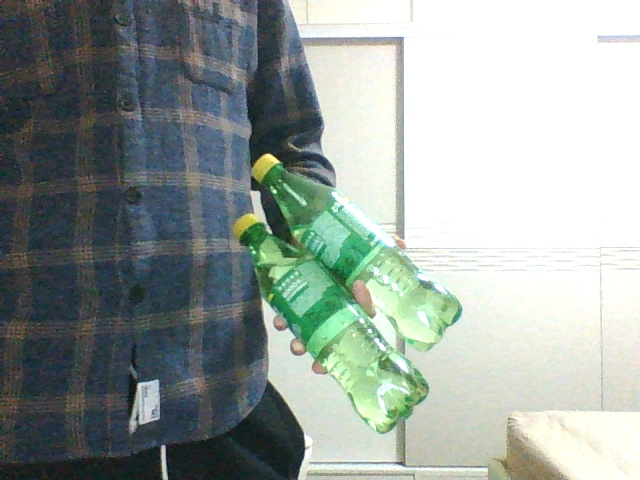Sprite: (234, 215, 430, 433), (250, 153, 461, 353)
